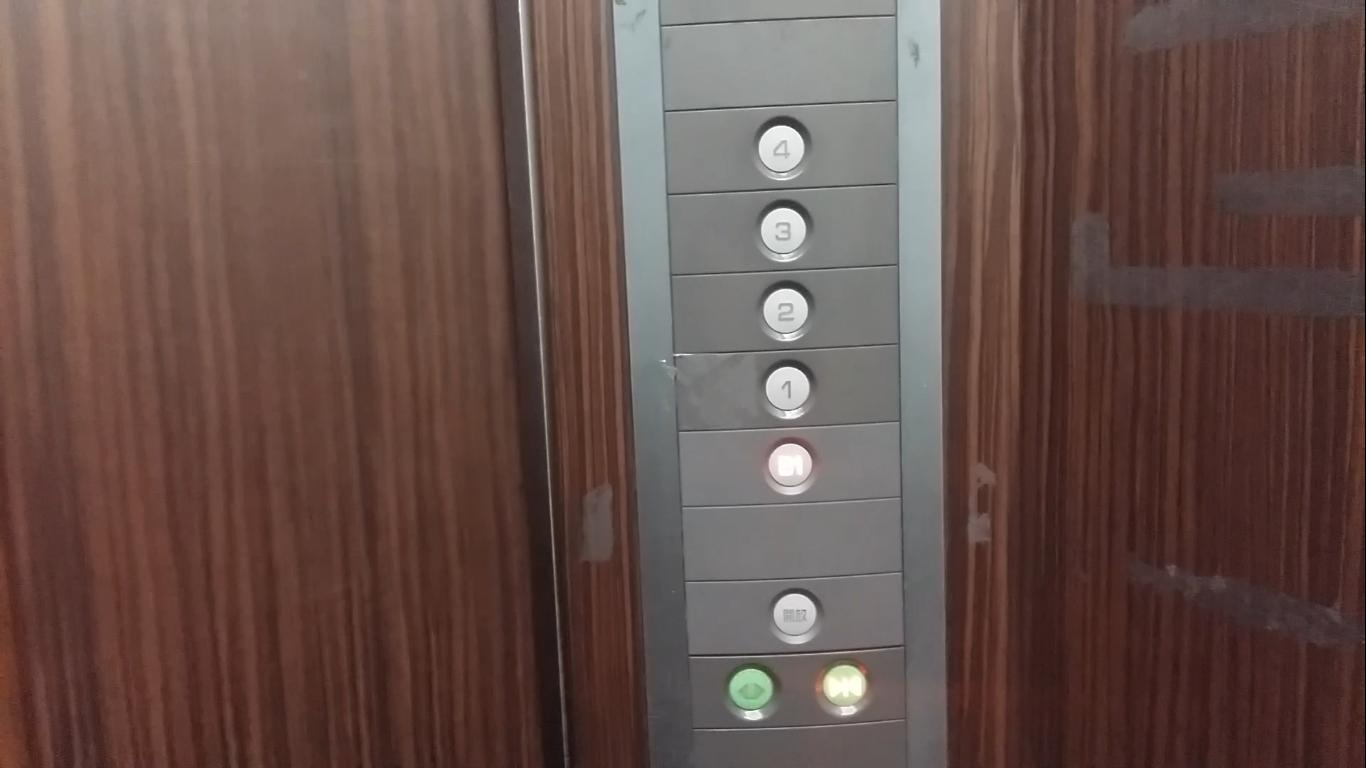1: (761, 356, 821, 421)
2: (760, 279, 817, 342)
3: (753, 198, 818, 265)
4: (753, 113, 815, 181)
B1: (763, 435, 817, 496)
close: (814, 656, 874, 718)
open: (721, 662, 782, 720)
text: (769, 587, 823, 644)
